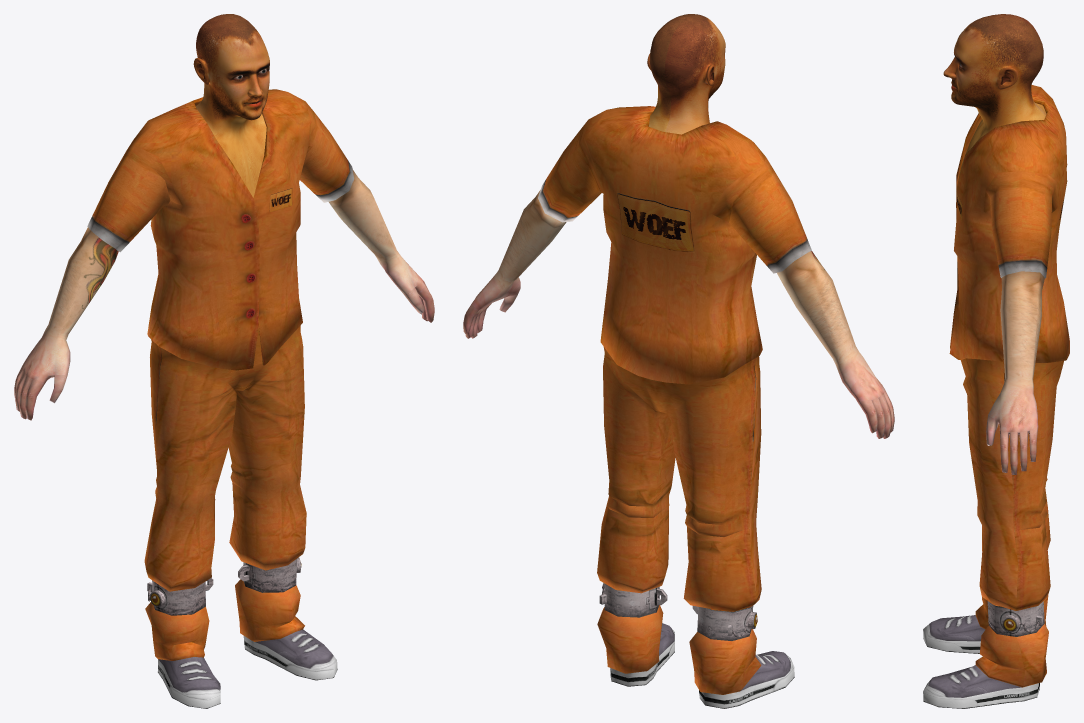
The picture shows the model from 3 angles, left to right: view 1: azimuth 30°, elevation 25°; view 2: azimuth 150°, elevation 25°; view 3: azimuth 270°, elevation 25°; orthographic projection. The views are drawn at different scales.
Visible parts, largest first — view 1: Model_Prisoner_02_04 - Default_0, Face_03 - Default_0; view 2: Model_Prisoner_02_04 - Default_0, Face_03 - Default_0; view 3: Model_Prisoner_02_04 - Default_0, Face_03 - Default_0.
Boxes of the visible parts, x1,y1,x2,y2 form: Model_Prisoner_02_04 - Default_0: (14, 89, 434, 708); Face_03 - Default_0: (193, 14, 269, 197); Model_Prisoner_02_04 - Default_0: (463, 106, 894, 708); Face_03 - Default_0: (647, 14, 725, 134); Model_Prisoner_02_04 - Default_0: (923, 85, 1069, 708); Face_03 - Default_0: (943, 14, 1046, 179).
Bounding box in the file's own units: 1.56 × 2.35 × 0.4786.
3 materials, 3 textured.
